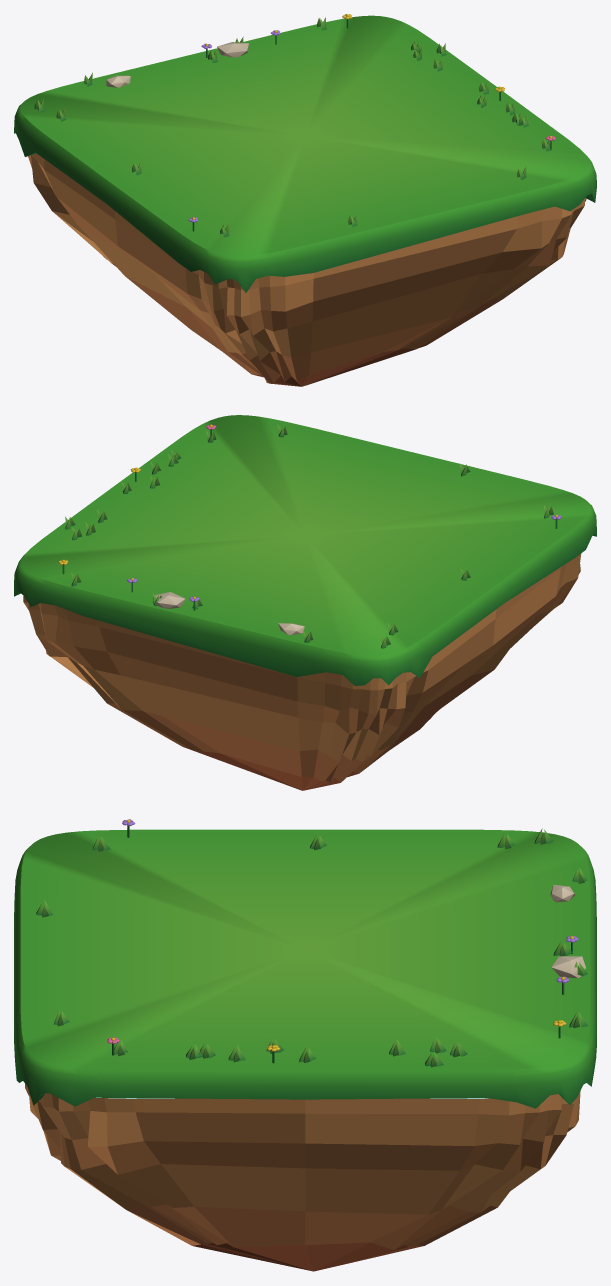
The model's file is PLAT_Isle_Wide.glb.
3 renders of one model, top to bottom at view 1: azimuth 30°, elevation 25°; view 2: azimuth 150°, elevation 25°; view 3: azimuth 270°, elevation 25°, orthographic. The views are drawn at different scales.
Visible parts, largest first — view 1: Ground; view 2: Ground; view 3: Ground.
Boxes of the visible parts, x1=… form: Ground: x1=14, y1=14, x2=596, y2=386; Ground: x1=14, y1=415, x2=596, y2=790; Ground: x1=14, y1=819, x2=596, y2=1271.
Bounding box in the file's own units: 6.14 × 3.95 × 6.14.
